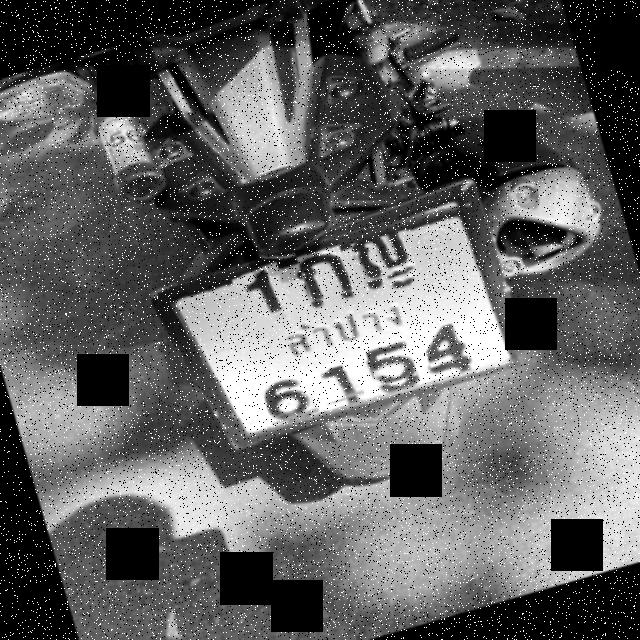letters: (230, 262, 293, 332), (293, 236, 352, 302), (350, 228, 417, 283), (260, 370, 322, 424), (420, 317, 483, 367), (362, 332, 417, 387), (317, 362, 364, 406)
license-plate: (158, 200, 520, 447)
province: (276, 286, 418, 364)
